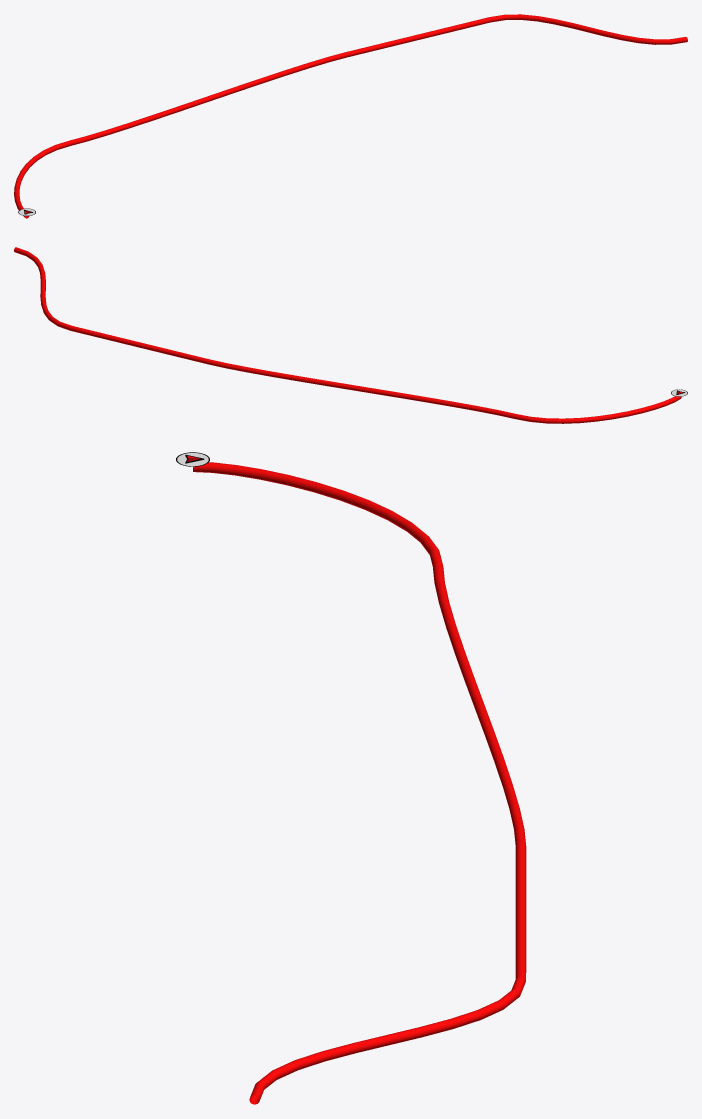
Rendered from route_2255961d-fae6-466d-96da-6d2b73ab27ea_de_single.glb.
The picture shows the model from 3 angles, top to bottom: view 1: azimuth 30°, elevation 25°; view 2: azimuth 150°, elevation 25°; view 3: azimuth 270°, elevation 25°; orthographic projection. The views are drawn at different scales.
Visible parts, largest first — view 1: Erde Abteilung; view 2: Erde Abteilung; view 3: Erde Abteilung.
Boxes of the visible parts, box(x1,y1,x2,y2) form: Erde Abteilung: box(14, 14, 687, 218); Erde Abteilung: box(14, 247, 681, 423); Erde Abteilung: box(193, 462, 526, 1104).
Bounding box in the file's own units: 11.46 × 0.1062 × 2.65.
